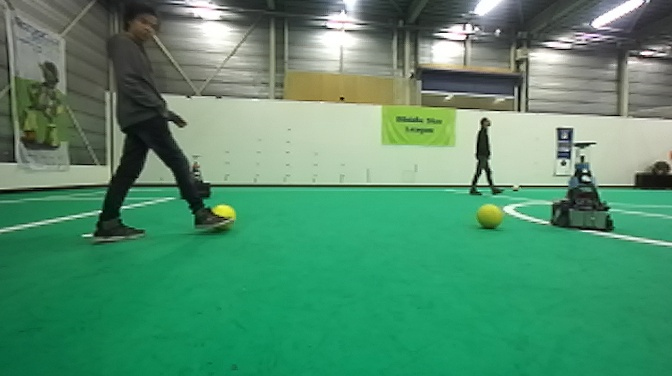ball: (474, 203, 504, 231), (207, 202, 235, 232), (509, 181, 521, 194)
human: (85, 3, 234, 244), (466, 117, 506, 196)
robot: (549, 139, 616, 232), (177, 153, 215, 201)
